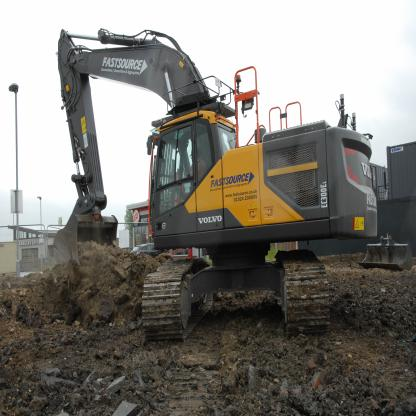excavator: (40, 17, 390, 349)
